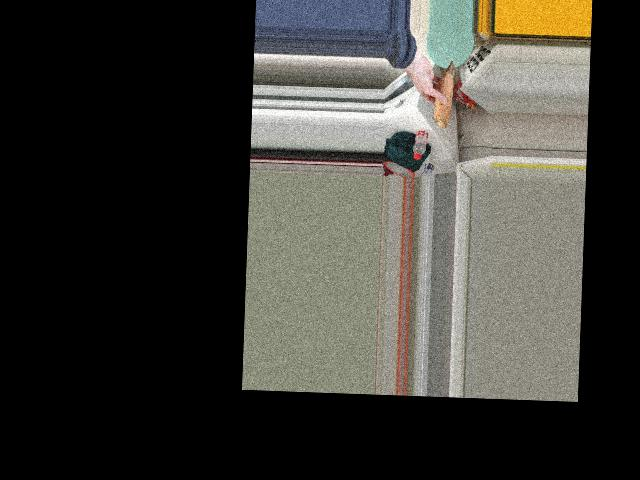sweet_potato: (433, 60, 454, 124)
